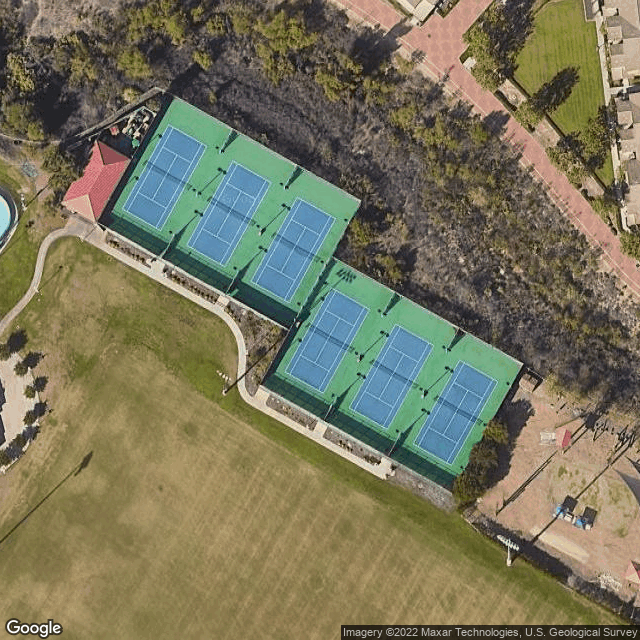Court: (186, 157, 272, 268), (251, 196, 337, 303), (123, 123, 207, 232), (350, 323, 434, 430), (413, 360, 498, 465), (286, 287, 369, 394)
